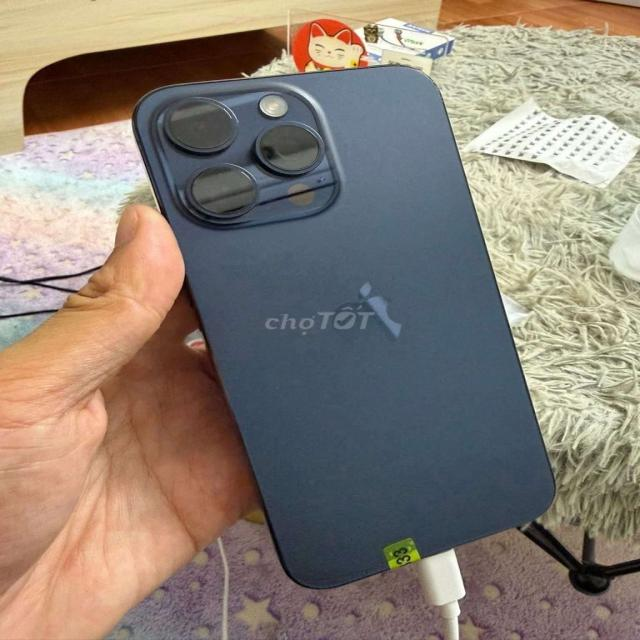gen_15: (123, 63, 575, 602)
